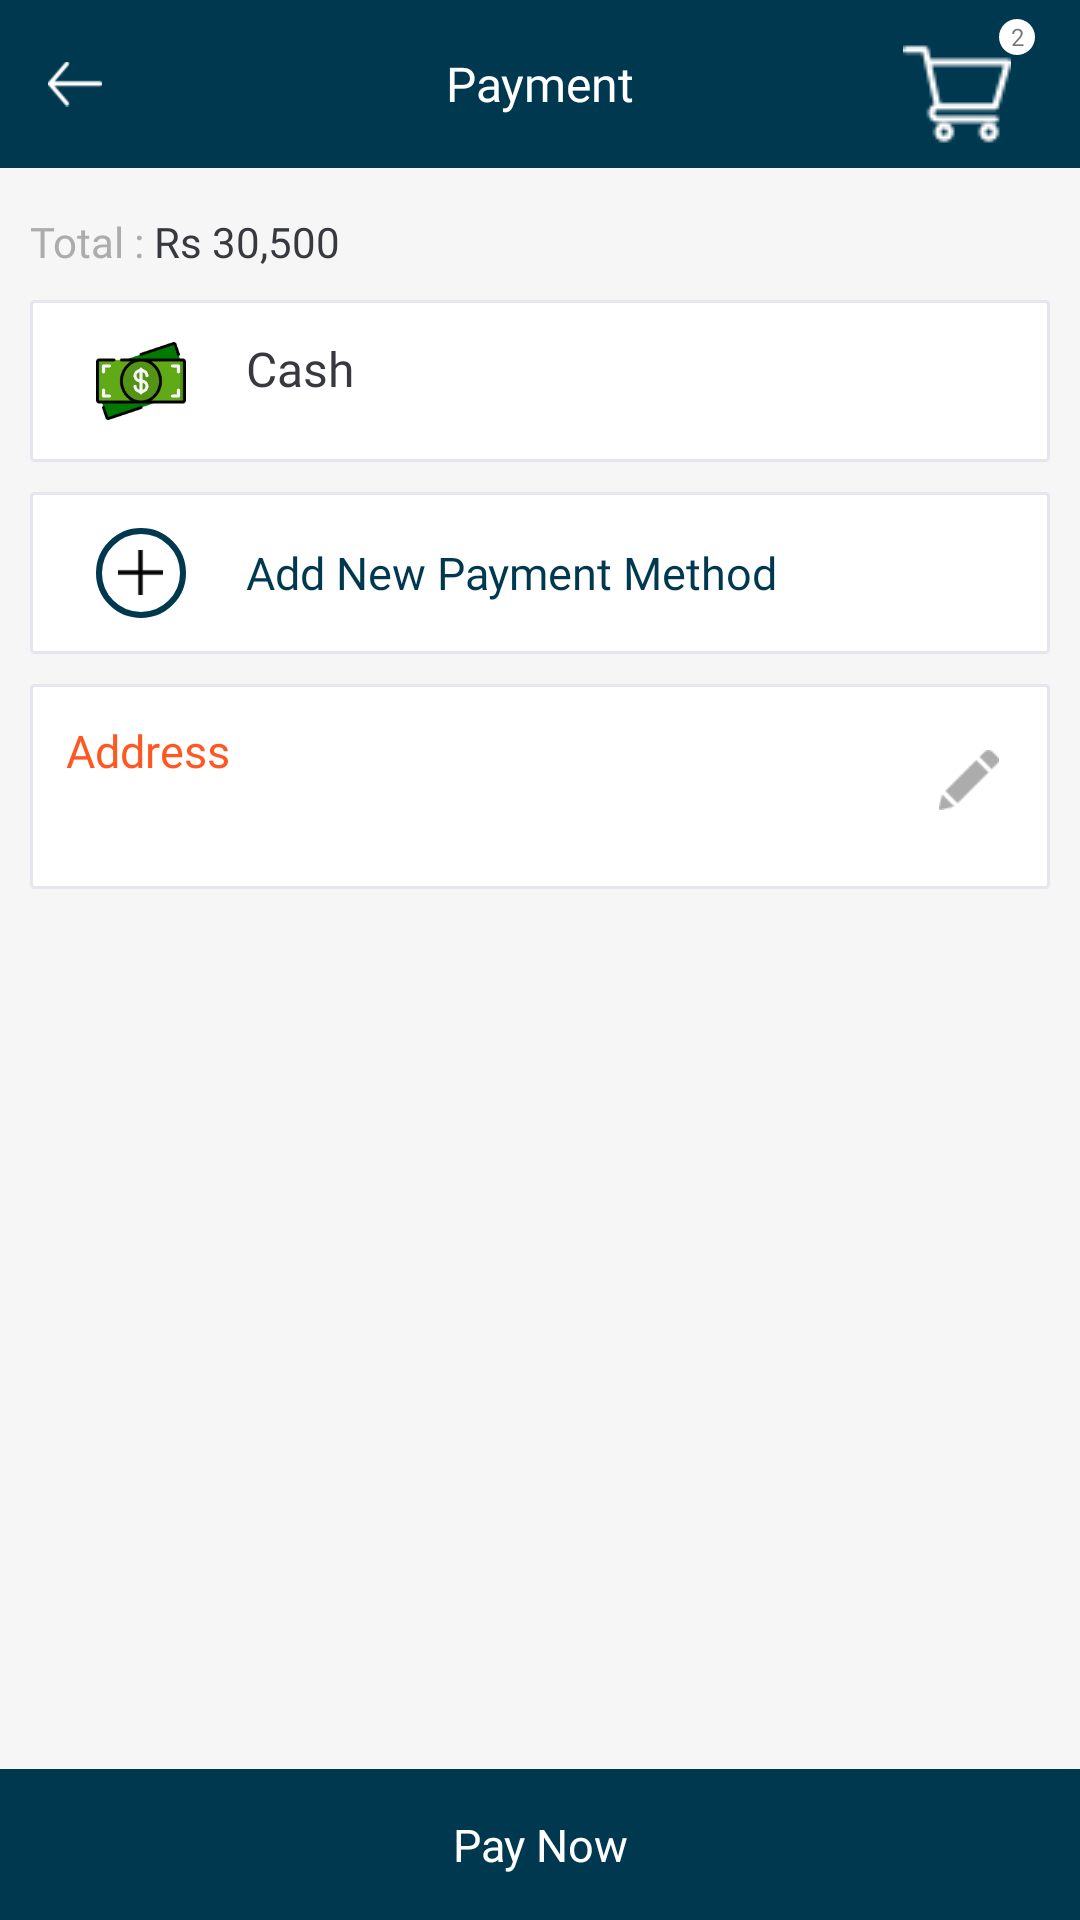

Screen size 1080x1920. Icon name, then its center in pixels as (x=x, y=y):
back: (x=75, y=84)
edit: (x=969, y=780)
supermarket: (x=957, y=94)
